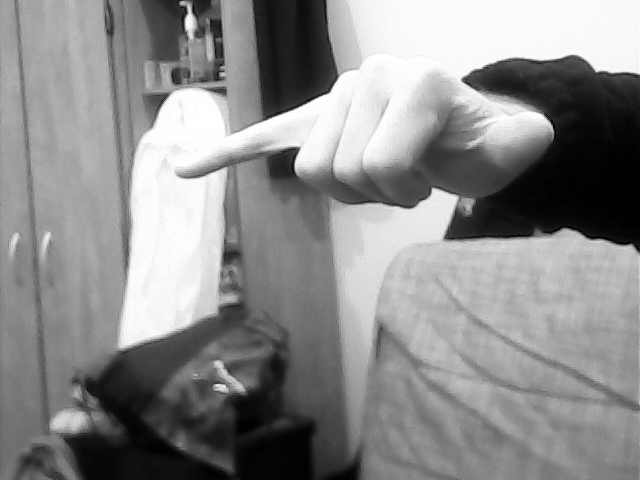aloha: (173, 50, 571, 217)
